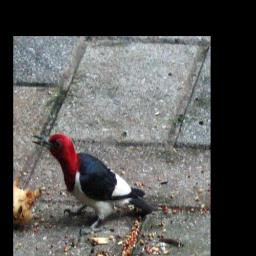Woodpecker: (28, 128, 161, 241)
